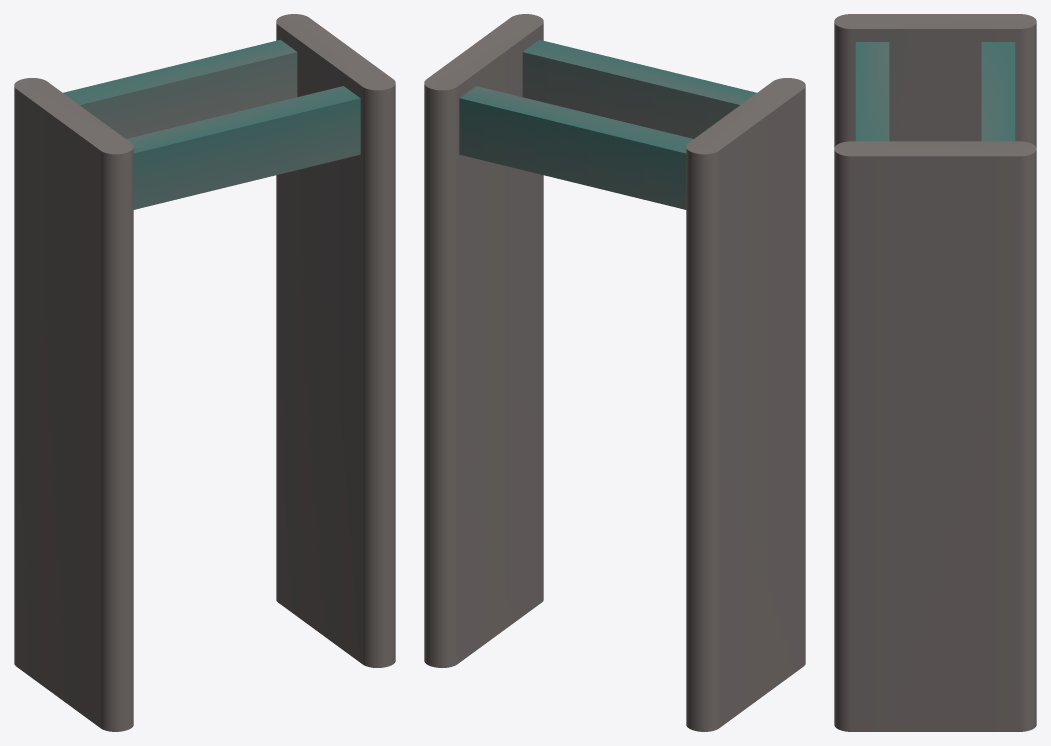
3 renders of one model, left to right at view 1: azimuth 30°, elevation 25°; view 2: azimuth 150°, elevation 25°; view 3: azimuth 270°, elevation 25°, orthographic.
Visible parts, largest first — view 1: slab.001, slab, rail.001, rail.002; view 2: slab.001, slab, rail.002, rail.001; view 3: slab, slab.001, rail.001, rail.002.
Boxes of the visible parts, box(x1,y1,x2,y2) form: slab.001: box(14, 78, 133, 731); slab: box(276, 14, 395, 667); rail.001: box(126, 86, 360, 209); rail.002: box(63, 39, 297, 138); slab.001: box(686, 78, 805, 731); slab: box(424, 14, 543, 667); rail.002: box(459, 86, 693, 209); rail.001: box(522, 39, 756, 138); slab: box(834, 141, 1036, 731); slab.001: box(834, 14, 1036, 147); rail.001: box(855, 42, 889, 141); rail.002: box(981, 42, 1015, 141).
Bounding box in the file's own units: 1.17 × 2.2 × 0.7005.
